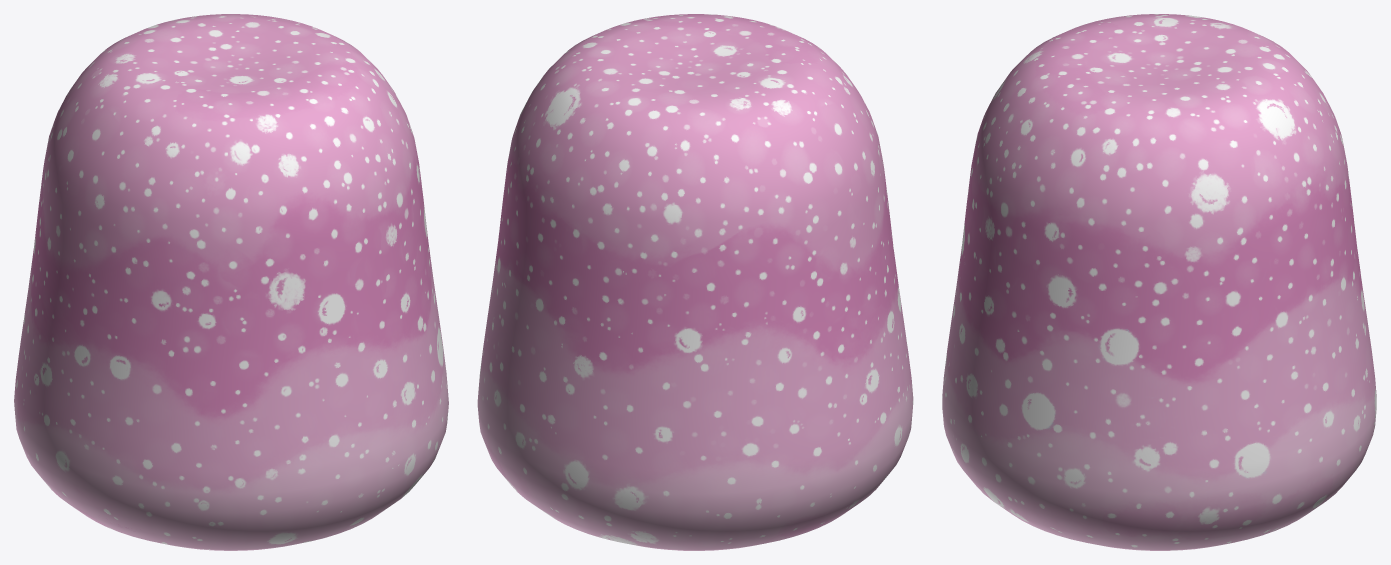
The model's file is purpleGum.glb.
The picture shows the model from 3 angles, left to right: view 1: azimuth 30°, elevation 25°; view 2: azimuth 150°, elevation 25°; view 3: azimuth 270°, elevation 25°; orthographic projection.
Visible parts, largest first — view 1: gumdroppurple; view 2: gumdroppurple; view 3: gumdroppurple.
Part boxes in pixels (box(x1,y1,x2,y2)): gumdroppurple: box(14, 14, 448, 550); gumdroppurple: box(477, 14, 913, 550); gumdroppurple: box(942, 14, 1376, 550).
Size of the model in its own units: 0.6912 by 0.7596 by 0.6905.
1 material, 1 textured.
